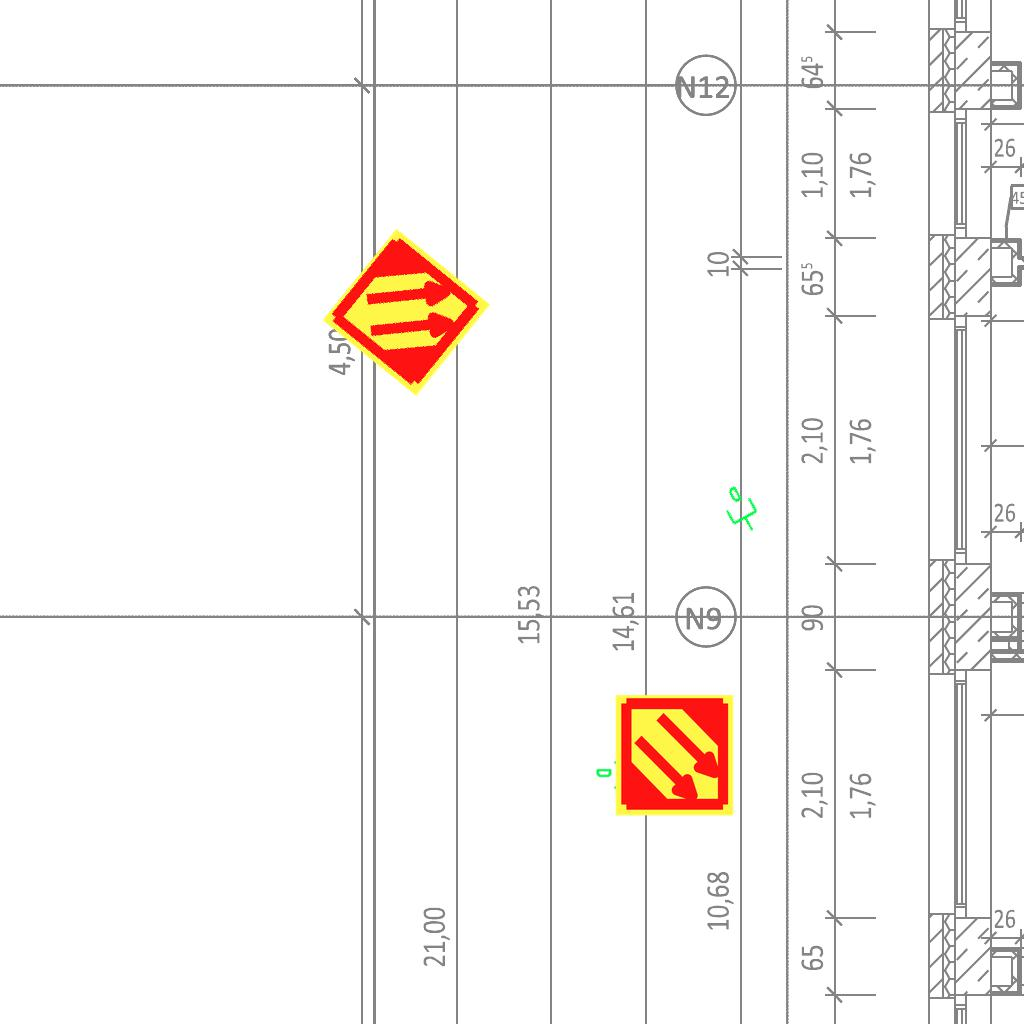ASR_Ansaugrauchmelder: (318, 224, 495, 401), (612, 693, 737, 818)
Datenanschluss_einfach: (713, 479, 767, 541), (595, 759, 645, 793)
